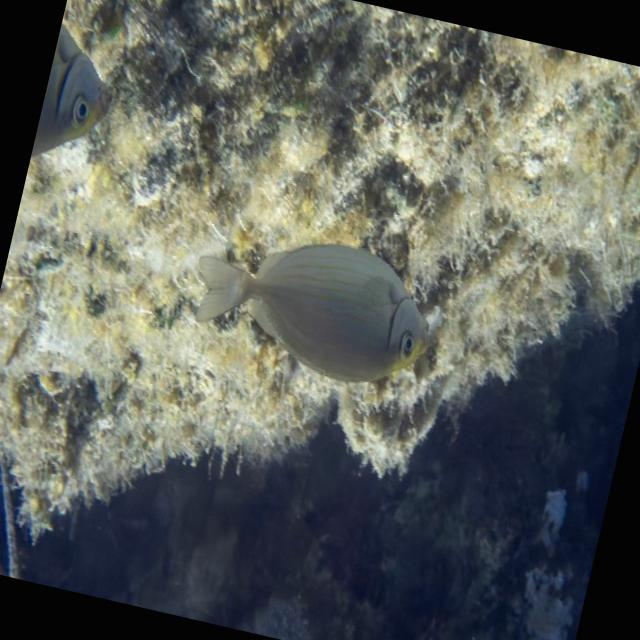Sokar Baligi: (169, 205, 452, 418)
